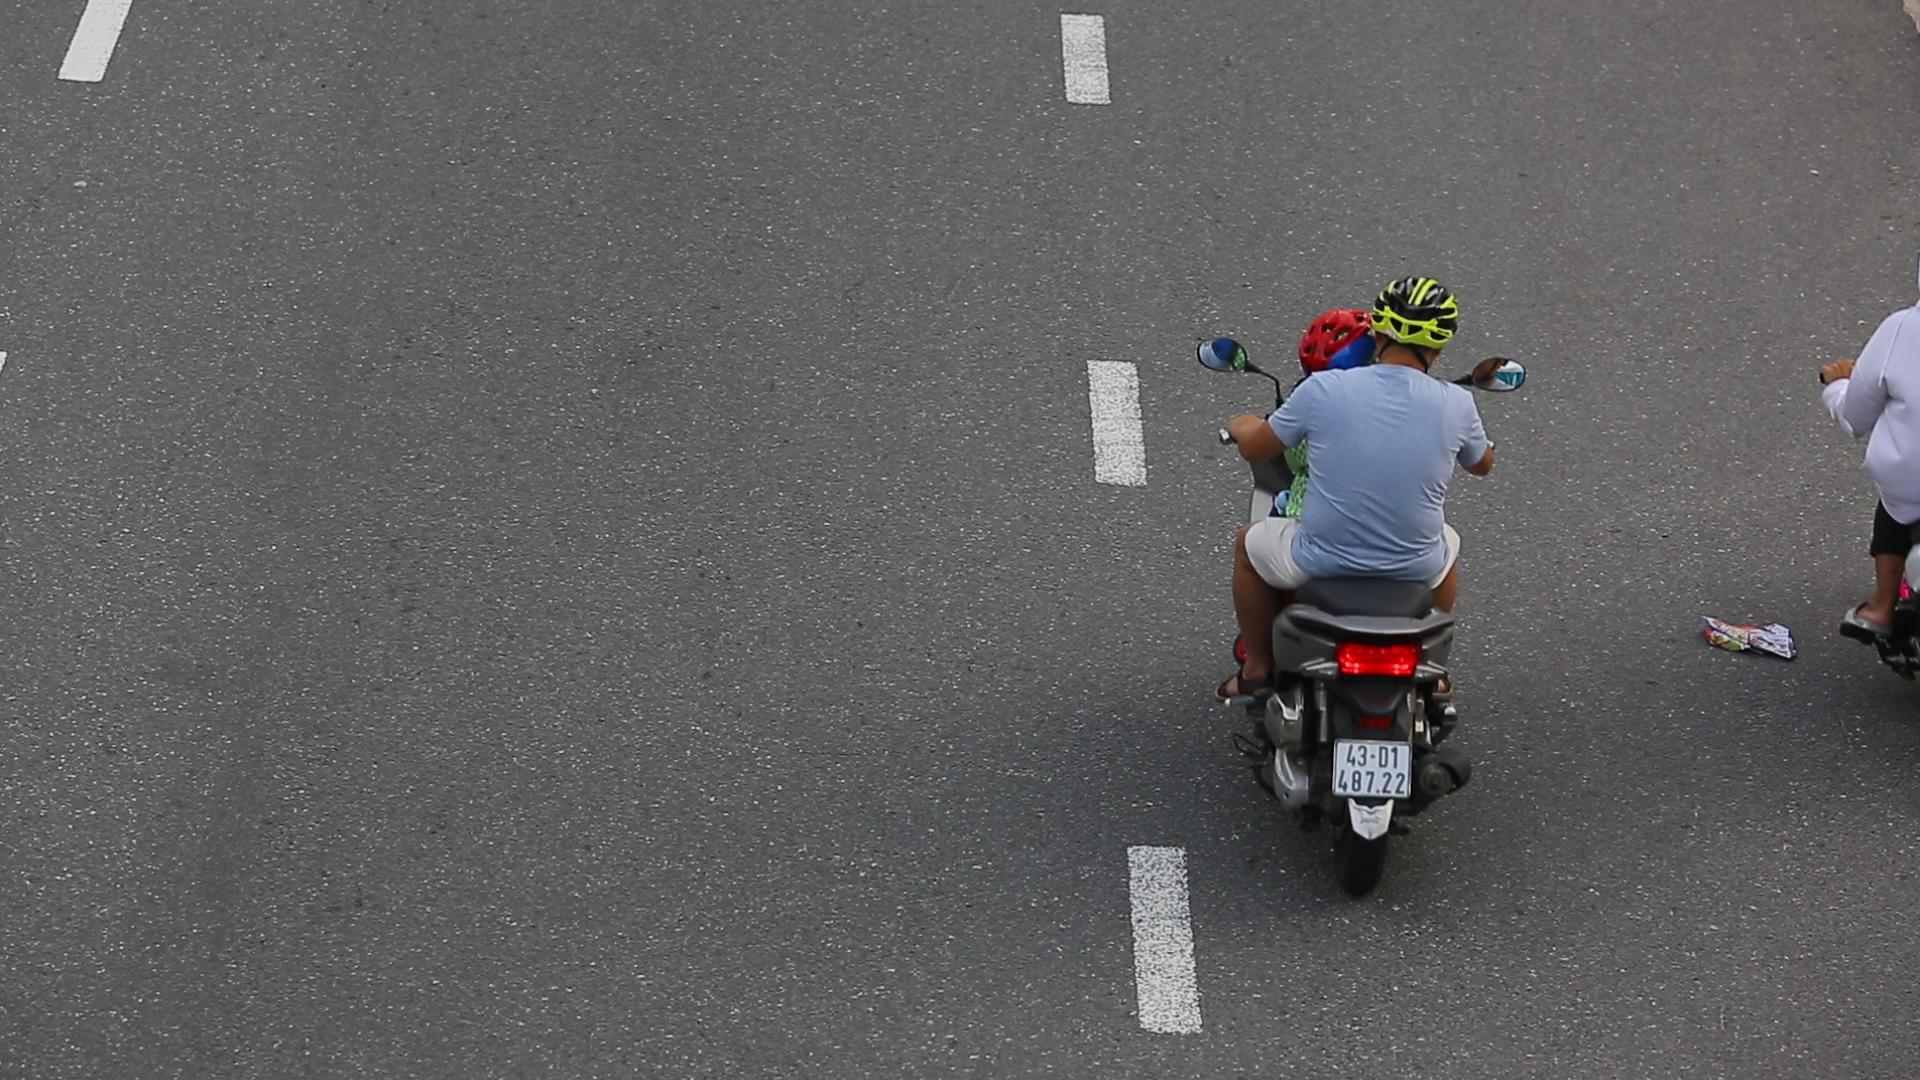motobike: (1184, 269, 1538, 891)
